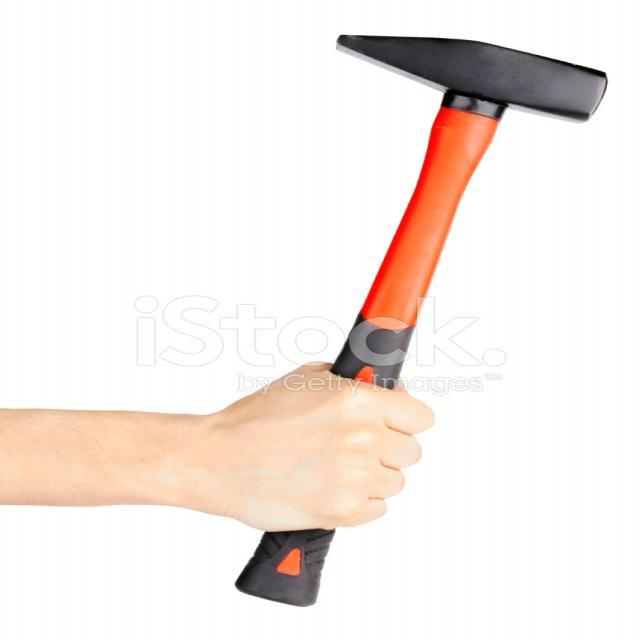hammer: (226, 28, 618, 612)
